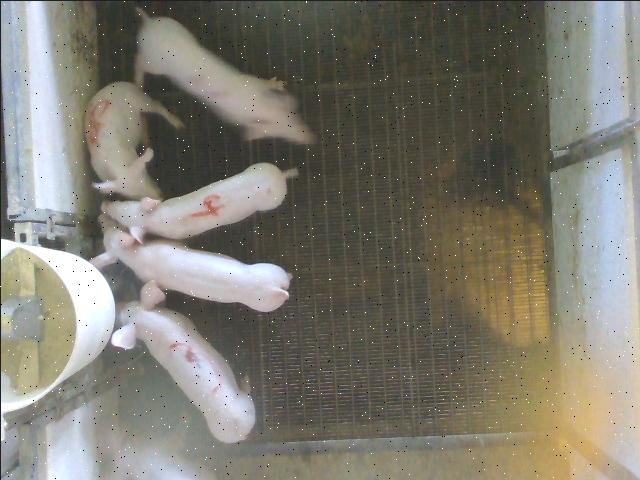pig-2: (135, 8, 314, 142)
pig-3: (110, 280, 254, 441)
pig-4: (101, 162, 296, 239)
pig-5: (84, 82, 182, 199)
